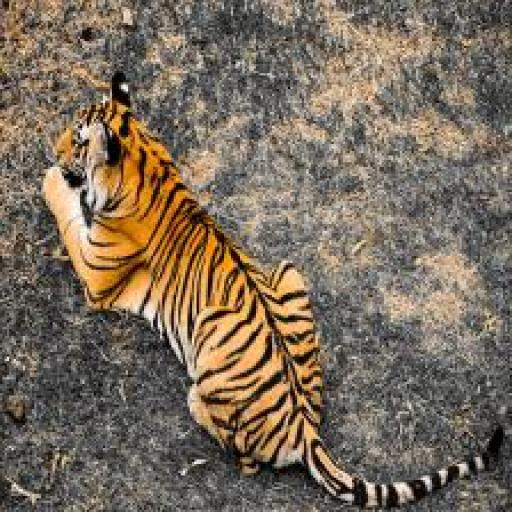Tiger: (25, 23, 501, 511)
